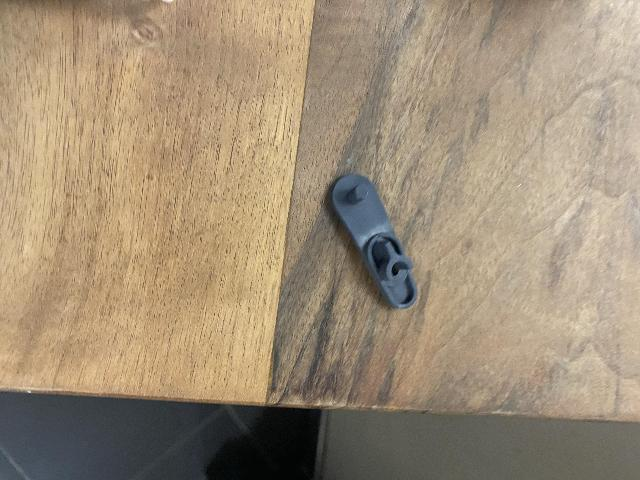Plastik: (332, 167, 419, 310)
